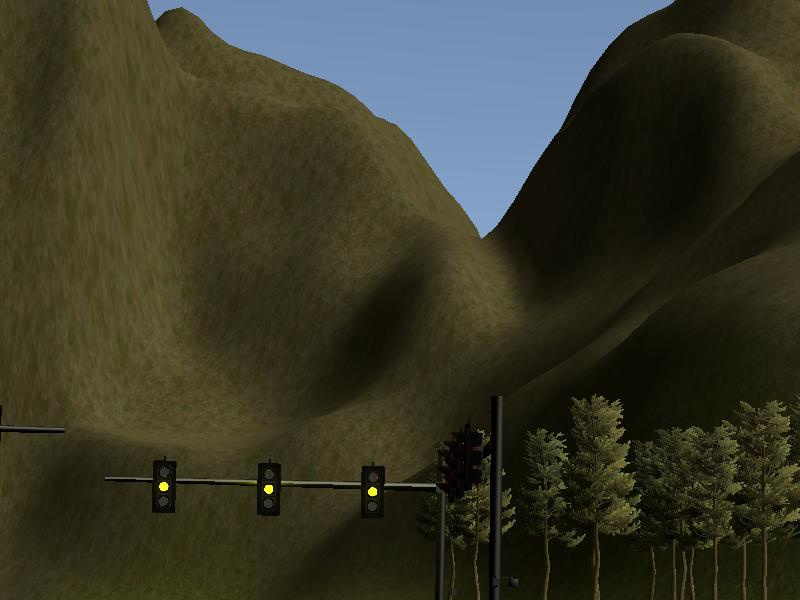Yellow: (359, 464, 385, 521), (256, 460, 281, 517), (152, 458, 176, 514)
